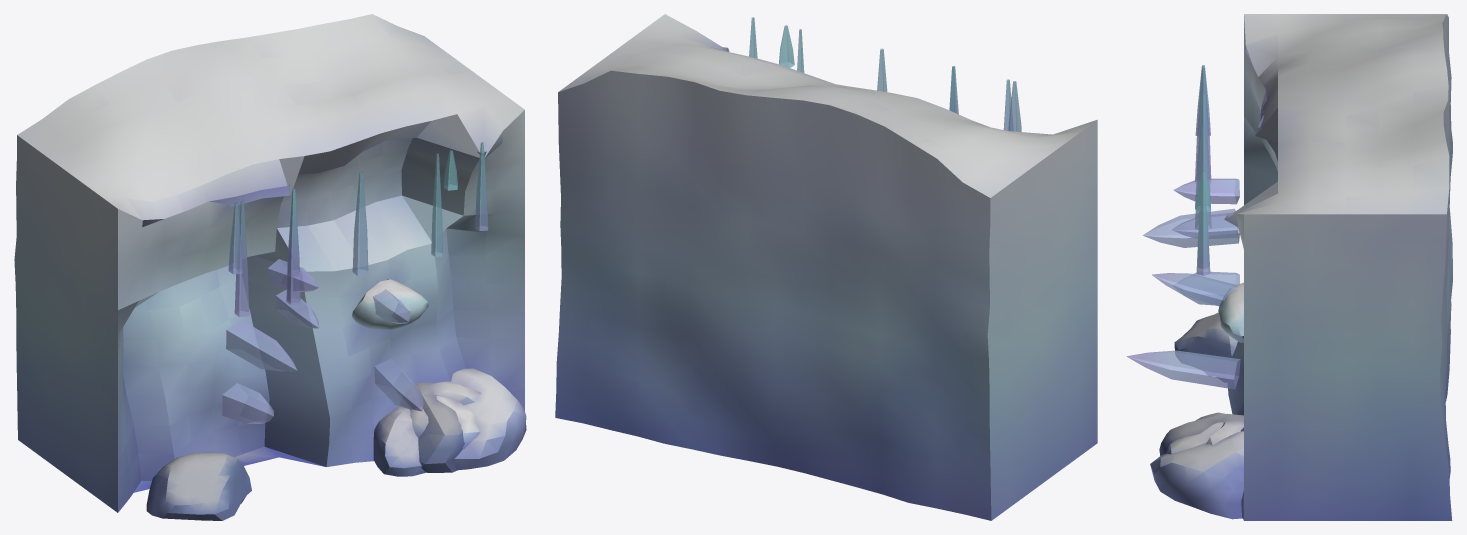
Rendered from glass_cliff_ice_a.glb.
3 views of the same model, side by side, from view 1: azimuth 30°, elevation 25°; view 2: azimuth 150°, elevation 25°; view 3: azimuth 270°, elevation 25° (orthographic). The views are drawn at different scales.
Parts seen in each view (by area): view 1: glass_cliff_ice_a; view 2: glass_cliff_ice_a; view 3: glass_cliff_ice_a.
Boxes of the visible parts, bbox=[...] form: glass_cliff_ice_a: bbox=[14, 14, 526, 520]; glass_cliff_ice_a: bbox=[555, 14, 1097, 520]; glass_cliff_ice_a: bbox=[1126, 14, 1452, 520].
Size of the model in its own units: 14 by 11.75 by 9.66.
